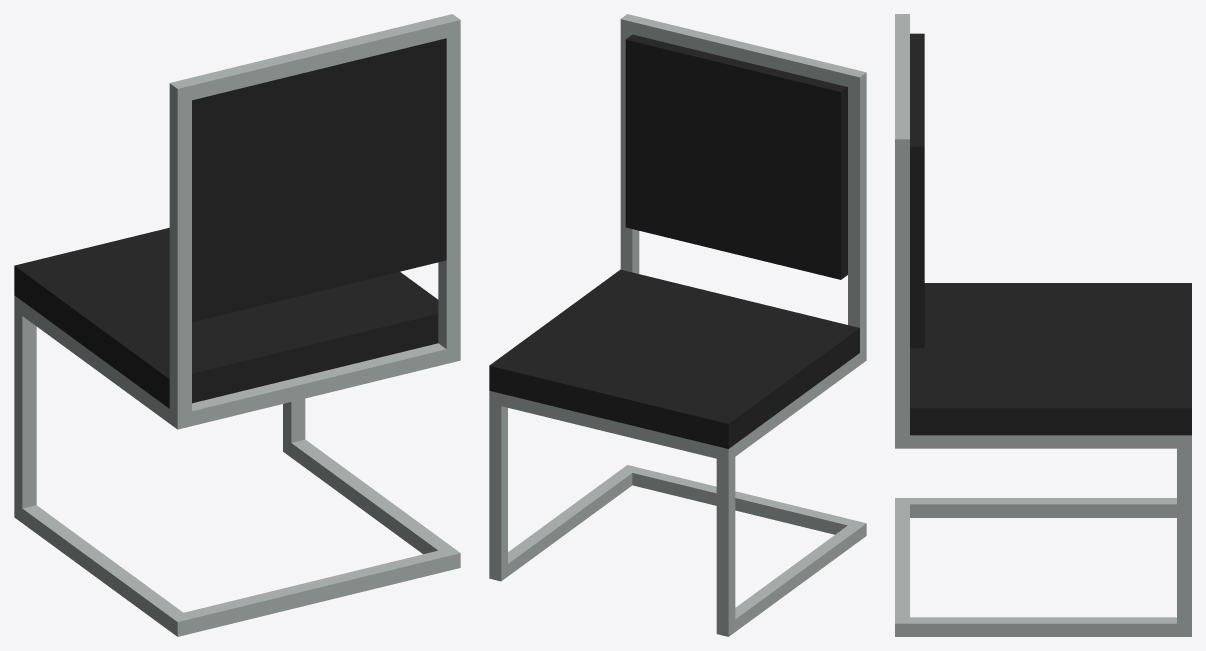
Rendered from chair_03.glb.
The picture shows the model from 3 angles, left to right: view 1: azimuth 30°, elevation 25°; view 2: azimuth 150°, elevation 25°; view 3: azimuth 270°, elevation 25°; orthographic projection. The views are drawn at different scales.
Parts seen in each view (by area): view 1: Untitled; view 2: Untitled; view 3: Untitled.
Boxes of the visible parts, <box> form: Untitled: <box>14,14,460,636</box>; Untitled: <box>489,14,866,636</box>; Untitled: <box>895,14,1191,636</box>.
Size of the model in its own units: 0.6 by 1.11 by 0.6.
Materials: 1 (1 with a texture image).
